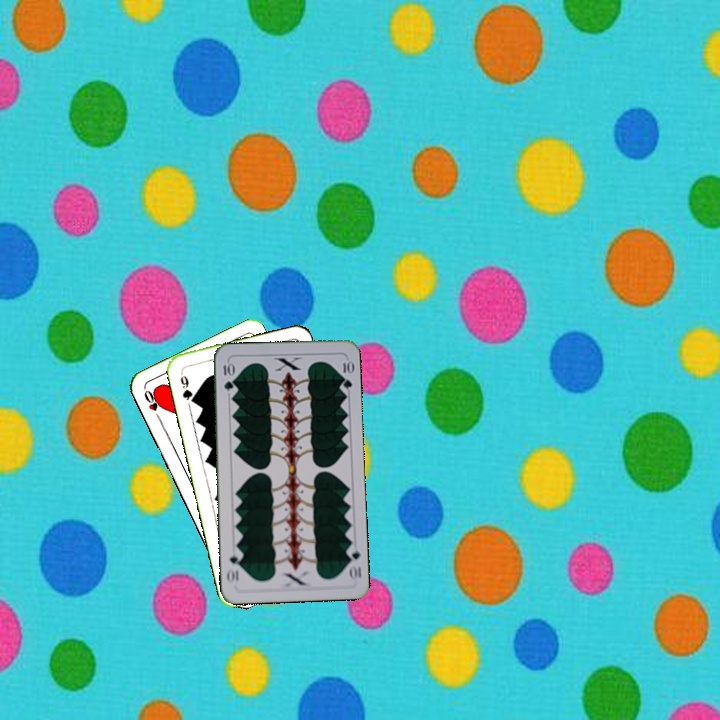G10: (343, 542, 364, 583), (219, 359, 235, 393)
G9: (176, 371, 198, 406)
HO: (140, 386, 163, 423)
